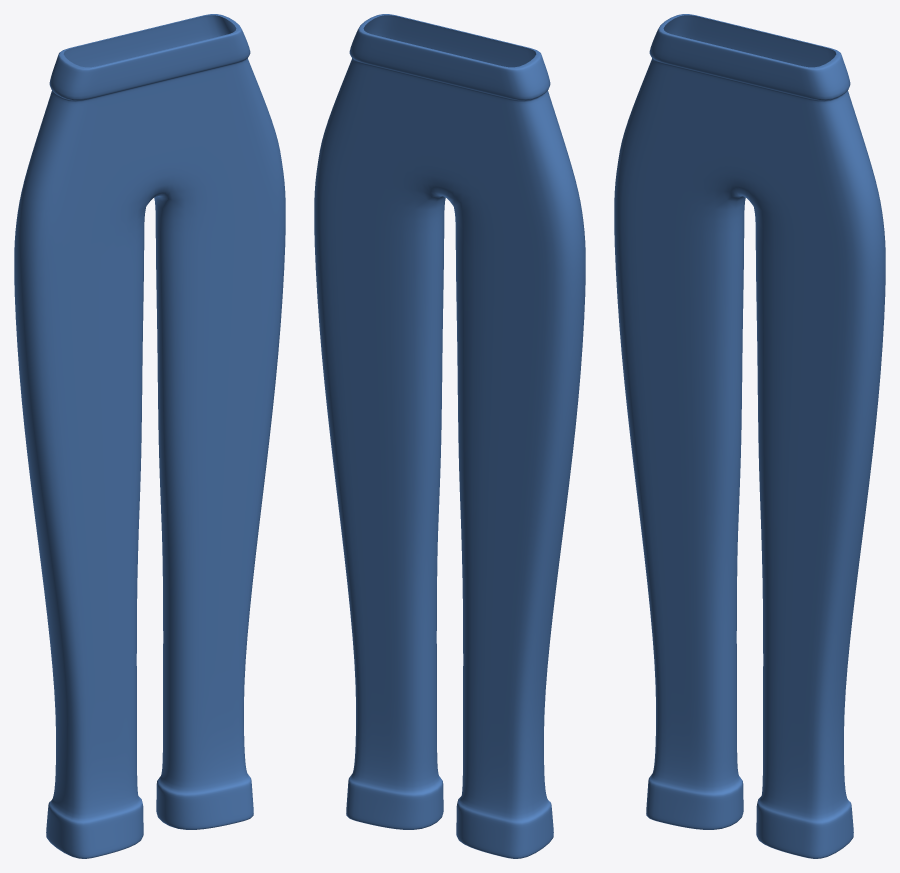
File: pants.fbx
3 views of the same model, side by side, from view 1: azimuth 30°, elevation 25°; view 2: azimuth 150°, elevation 25°; view 3: azimuth 330°, elevation 25° (orthographic).
Parts seen in each view (by area): view 1: Pants; view 2: Pants; view 3: Pants.
Boxes of the visible parts, x1,y1,x2,y2 form: Pants: (14, 14, 285, 858); Pants: (314, 14, 585, 858); Pants: (614, 14, 885, 858).
Size of the model in its own units: 30.76 by 123 by 351.
